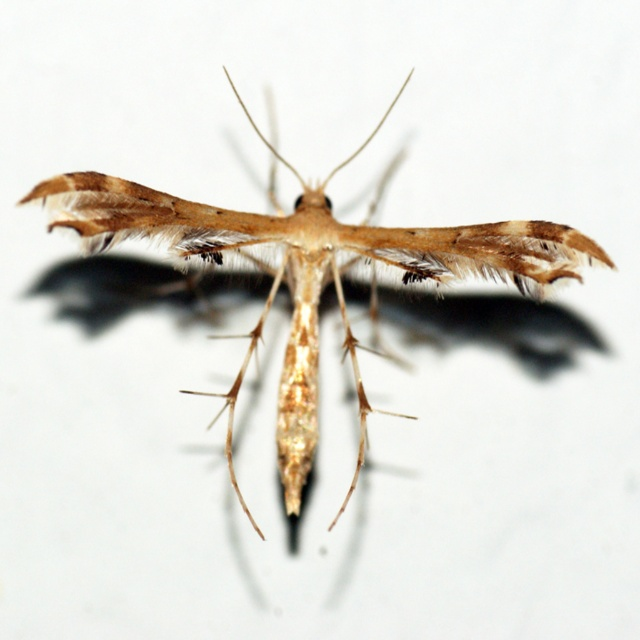Moths and butterflies: (9, 61, 621, 560)
